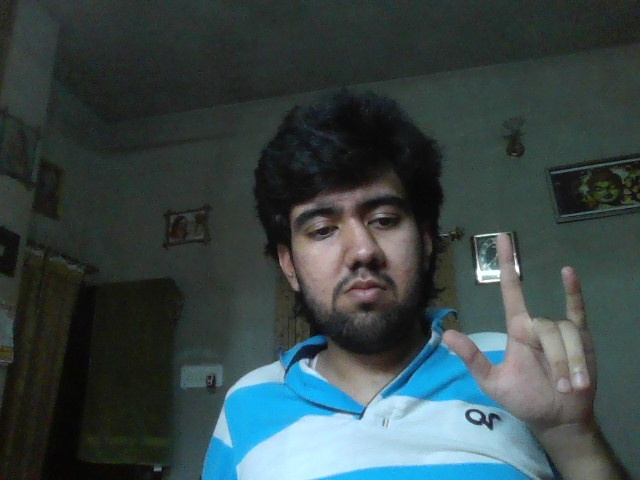ILoveYou: (442, 233, 597, 426)
